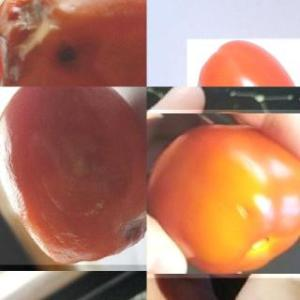tomato: (146, 110, 300, 278), (186, 38, 300, 86)
